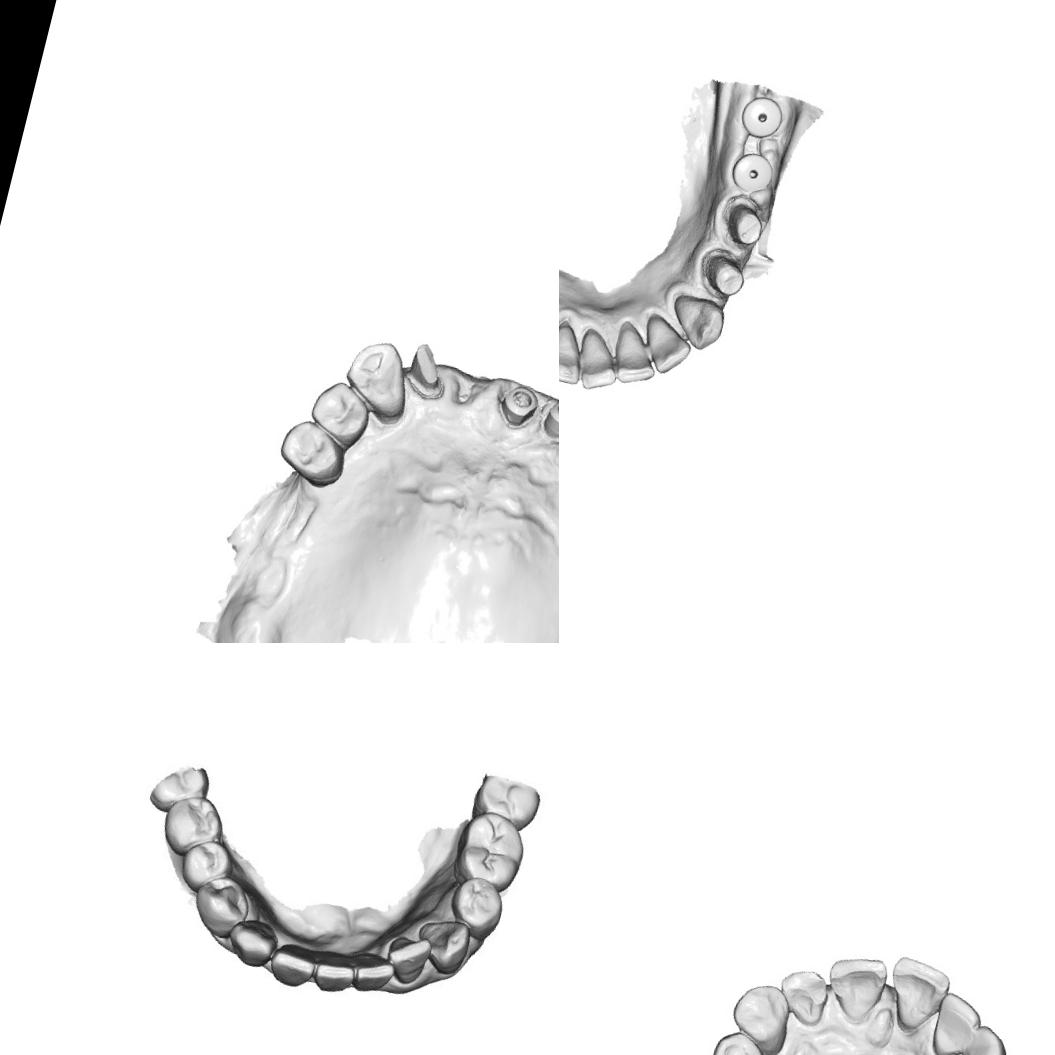canine: (338, 333, 416, 418), (722, 976, 797, 1055), (662, 284, 732, 354), (218, 914, 282, 973), (415, 915, 475, 968), (959, 1020, 1015, 1055)
crown: (711, 188, 772, 251), (691, 242, 753, 302), (398, 334, 454, 398)
implant: (723, 144, 780, 199), (734, 90, 788, 145), (495, 380, 543, 432), (539, 393, 559, 443)
incisor: (878, 953, 954, 1037), (819, 946, 892, 1026), (606, 317, 666, 391), (633, 311, 698, 379), (925, 989, 987, 1055), (772, 963, 834, 1028), (571, 326, 627, 396), (268, 935, 323, 991), (352, 949, 403, 1002), (559, 314, 593, 388), (386, 936, 435, 986), (313, 950, 360, 996)
molar: (154, 782, 234, 864), (454, 808, 531, 890)
premolar: (270, 414, 353, 489), (302, 374, 376, 450), (192, 874, 252, 938), (177, 830, 236, 890), (451, 878, 503, 931), (705, 1025, 772, 1055)
